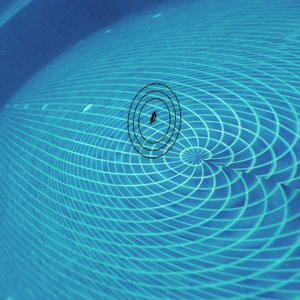circle: (123, 74, 193, 159)
submarine: (148, 113, 155, 121)
